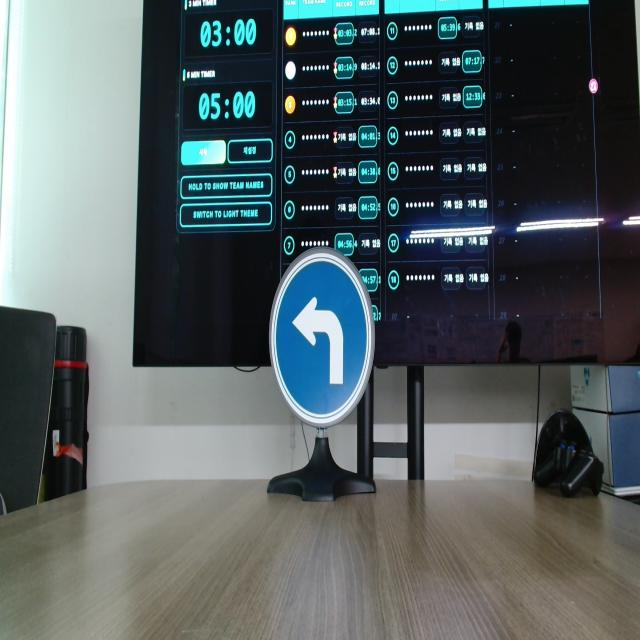left_direction: (250, 204, 388, 437)
